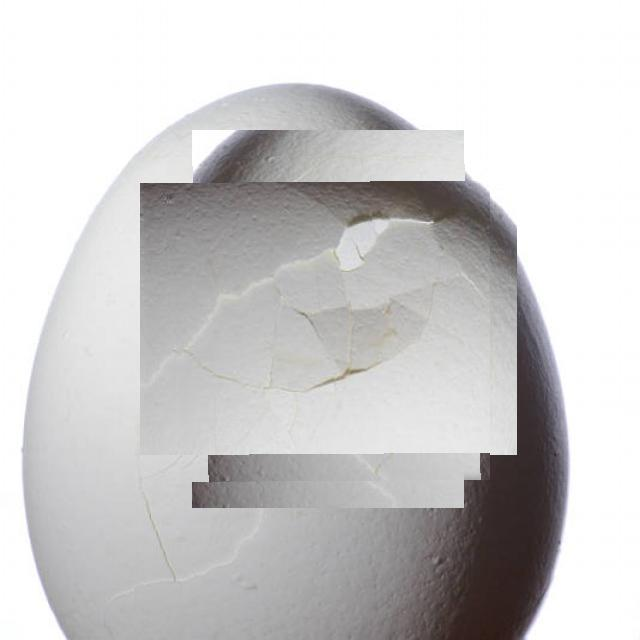biodegradable: (166, 156, 490, 482)
